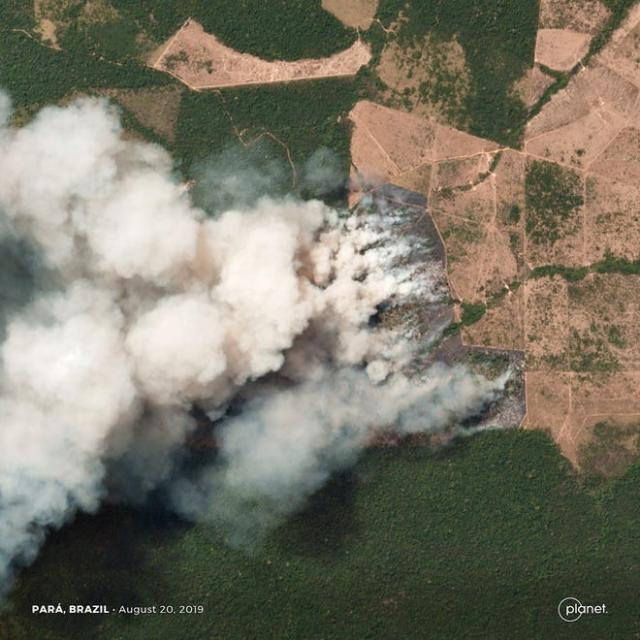Smoke: (186, 176, 512, 534), (0, 320, 185, 601), (0, 80, 184, 320)
